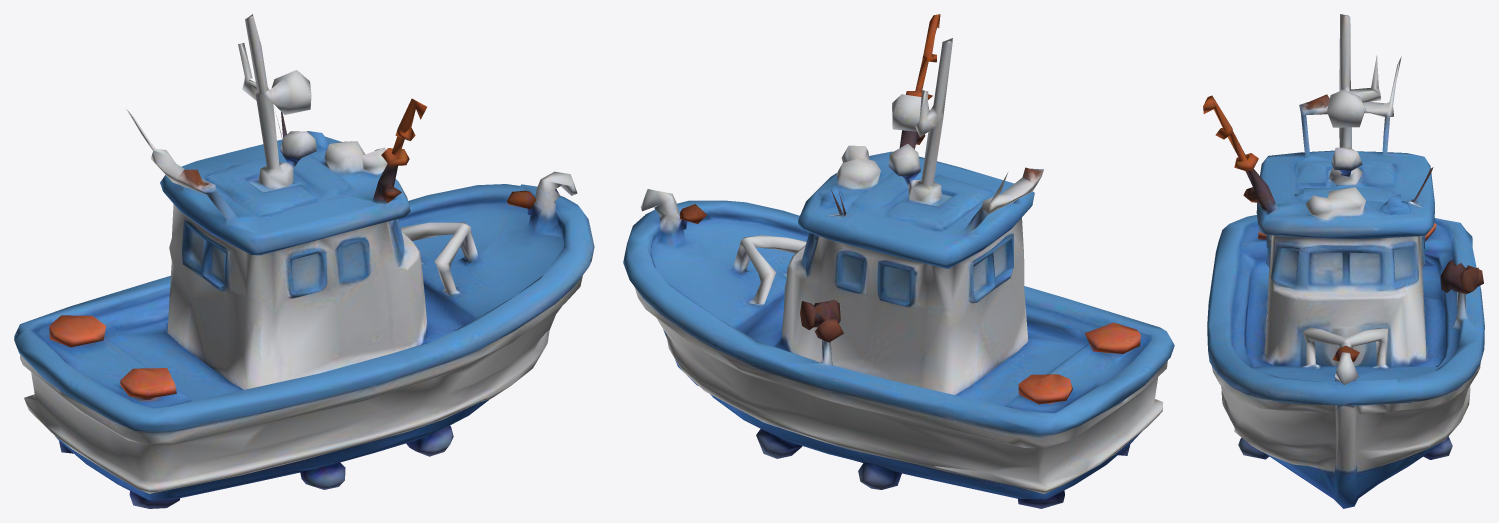
The model's file is fishboat.glb.
3 renders of one model, left to right at view 1: azimuth 30°, elevation 25°; view 2: azimuth 150°, elevation 25°; view 3: azimuth 270°, elevation 25°, orthographic. The views are drawn at different scales.
Visible parts, largest first — view 1: tripo_node_34c4c125-dfaa-42c5-96a7-80c140f8cdf1; view 2: tripo_node_34c4c125-dfaa-42c5-96a7-80c140f8cdf1; view 3: tripo_node_34c4c125-dfaa-42c5-96a7-80c140f8cdf1.
Boxes of the visible parts, left/top/right/bottom form: tripo_node_34c4c125-dfaa-42c5-96a7-80c140f8cdf1: left=14, top=14, right=594, bottom=508; tripo_node_34c4c125-dfaa-42c5-96a7-80c140f8cdf1: left=623, top=14, right=1174, bottom=508; tripo_node_34c4c125-dfaa-42c5-96a7-80c140f8cdf1: left=1203, top=14, right=1484, bottom=508.
Size of the model in its own units: 1 by 0.7823 by 0.5207.
1 material, 1 textured.
